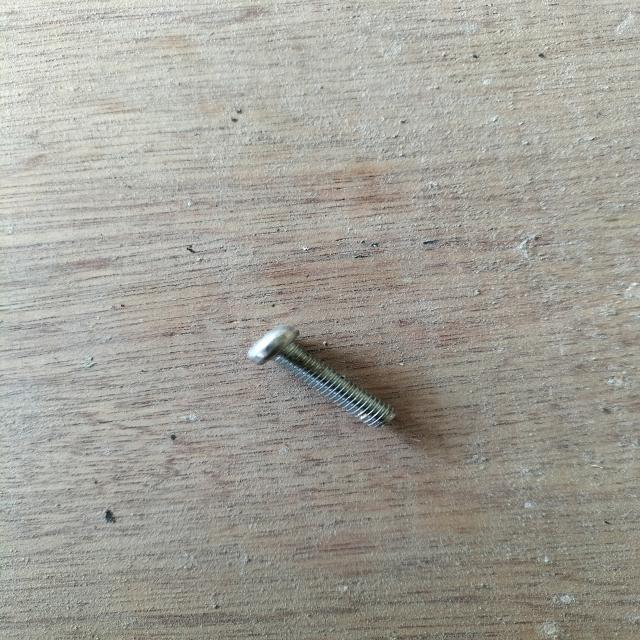bolt: (247, 326, 396, 429)
